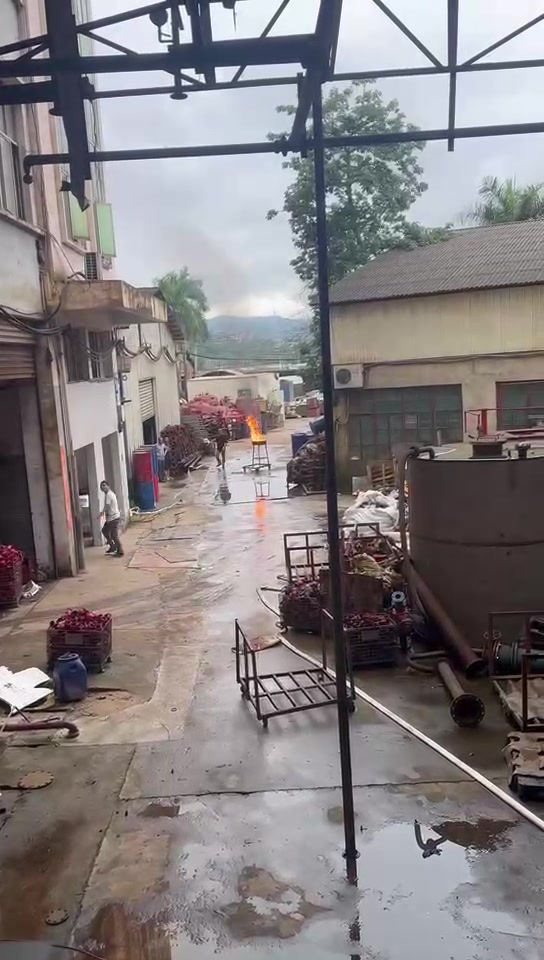fire: (246, 414, 265, 441)
